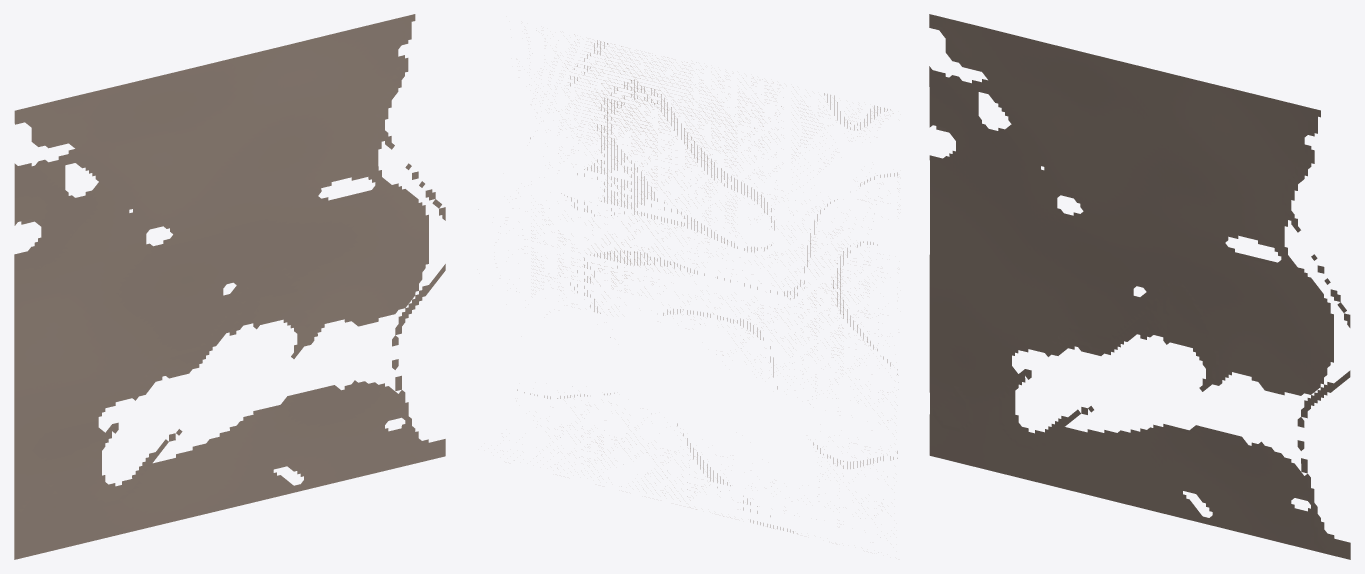
3 views of the same model, side by side, from view 1: azimuth 30°, elevation 25°; view 2: azimuth 150°, elevation 25°; view 3: azimuth 330°, elevation 25° (orthographic).
Parts seen in each view (by area): view 1: world; view 2: world; view 3: world.
Part boxes in pixels (bbox=[...]): world: bbox=[14, 14, 445, 559]; world: bbox=[517, 34, 897, 533]; world: bbox=[929, 14, 1350, 559].
Size of the model in its own units: 12800 by 12800 by 103.
